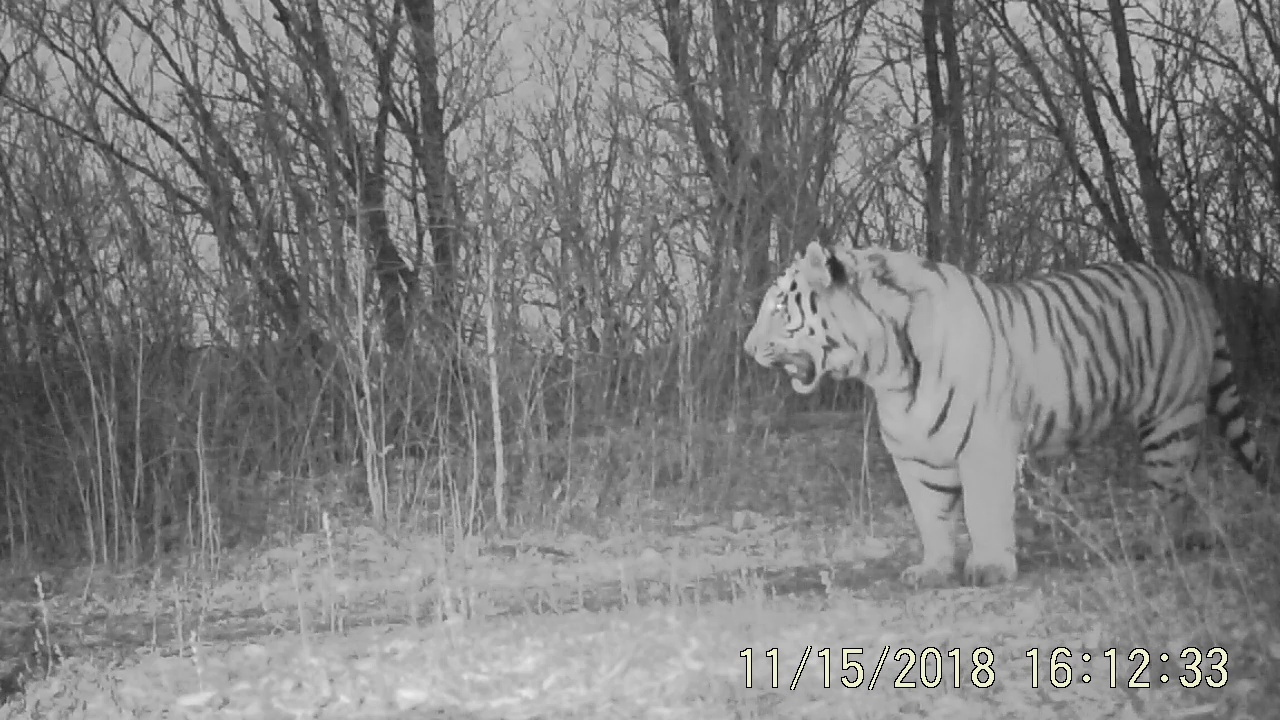Tiger: (727, 235, 1280, 629)
